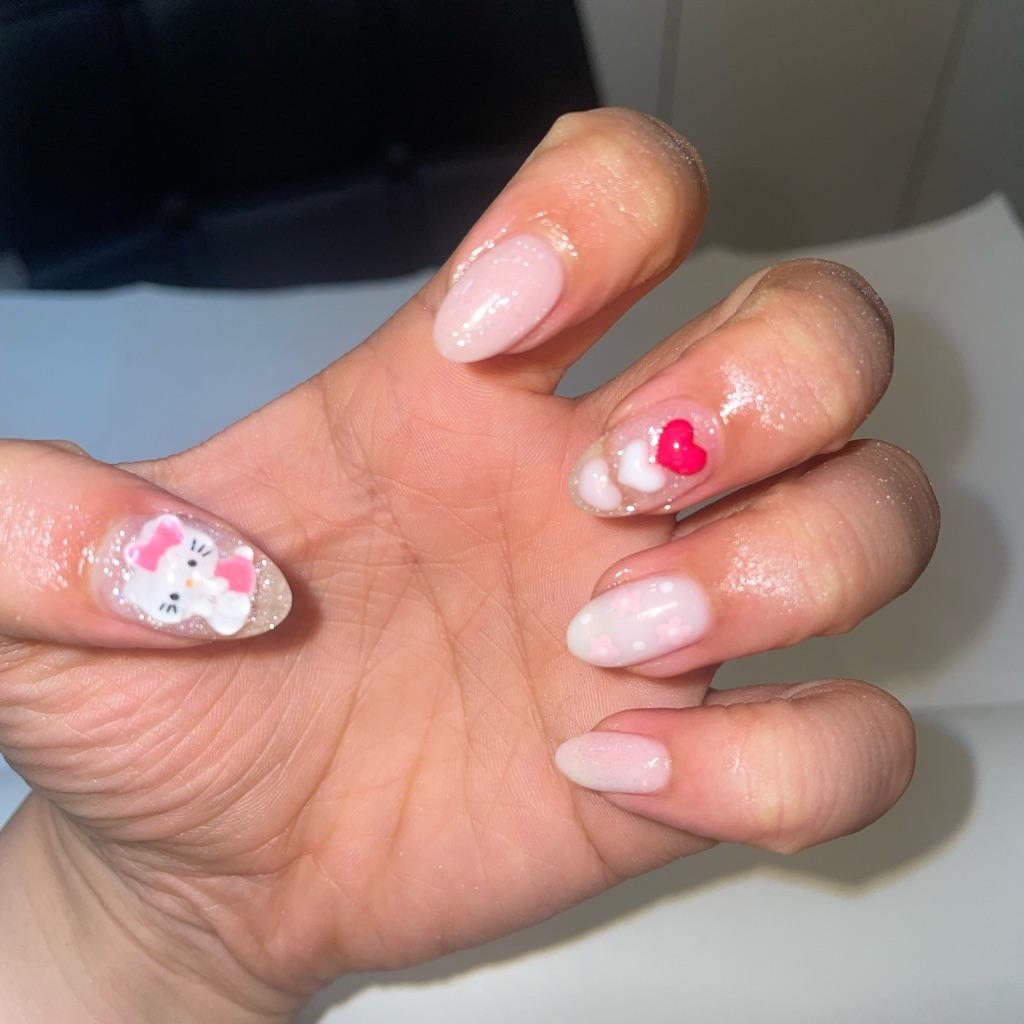nail: (568, 396, 724, 518), (431, 229, 565, 363), (565, 569, 712, 669), (553, 728, 671, 795)
